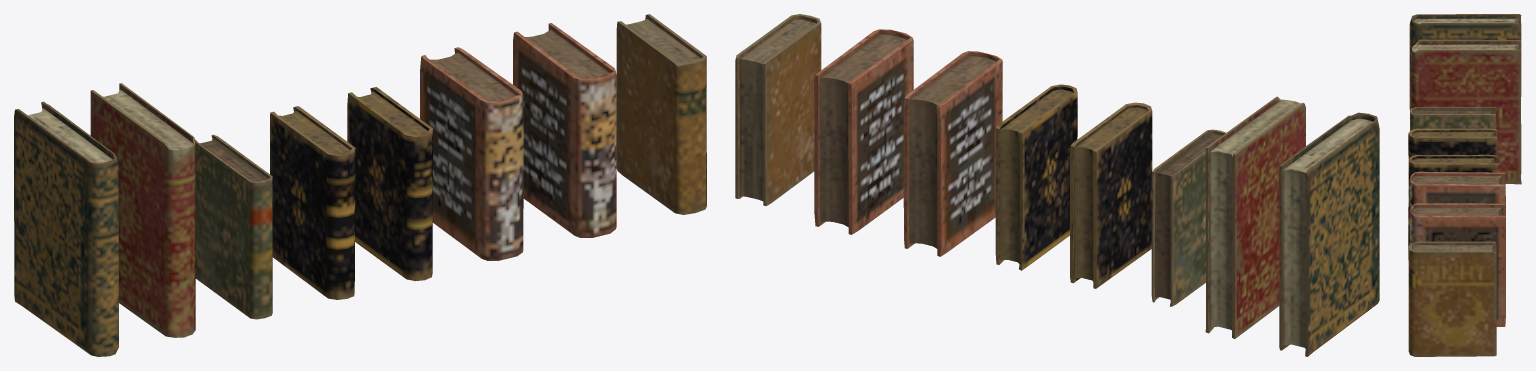
File: sm36_001_bookset01a.fbx
3 renders of one model, left to right at view 1: azimuth 30°, elevation 25°; view 2: azimuth 150°, elevation 25°; view 3: azimuth 270°, elevation 25°, orthographic. The views are drawn at different scales.
Parts seen in each view (by area): view 1: LOD_1_Group_0_Sub_1__sm36_001_BookSet01A_A_Mat, LOD_1_Group_1_Sub_1__sm36_001_BookSet01A_A_Mat; view 2: LOD_1_Group_0_Sub_1__sm36_001_BookSet01A_A_Mat, LOD_1_Group_1_Sub_1__sm36_001_BookSet01A_A_Mat; view 3: LOD_1_Group_0_Sub_1__sm36_001_BookSet01A_A_Mat, LOD_1_Group_1_Sub_1__sm36_001_BookSet01A_A_Mat.
Boxes of the visible parts, bbox=[...] form: LOD_1_Group_0_Sub_1__sm36_001_BookSet01A_A_Mat: bbox=[14, 14, 706, 356]; LOD_1_Group_1_Sub_1__sm36_001_BookSet01A_A_Mat: bbox=[28, 19, 701, 181]; LOD_1_Group_0_Sub_1__sm36_001_BookSet01A_A_Mat: bbox=[735, 14, 1379, 356]; LOD_1_Group_1_Sub_1__sm36_001_BookSet01A_A_Mat: bbox=[739, 19, 1372, 348]; LOD_1_Group_0_Sub_1__sm36_001_BookSet01A_A_Mat: bbox=[1408, 14, 1521, 356]; LOD_1_Group_1_Sub_1__sm36_001_BookSet01A_A_Mat: bbox=[1411, 18, 1519, 251].
Size of the model in its own units: 0.9542 by 0.2862 by 0.2179.
